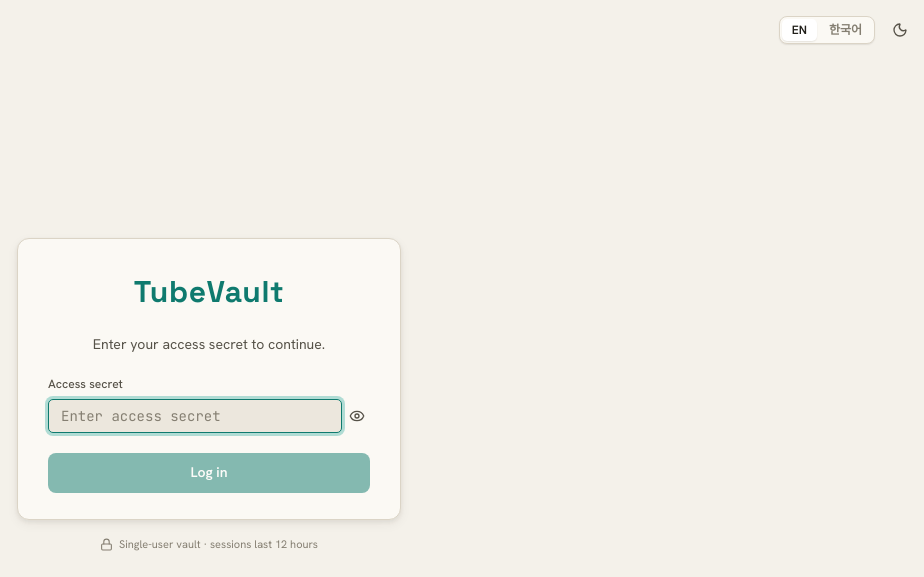
it: LoginPage › shows the generic invalid message on a 401 and does NOT redirect
Type "nope" into the password field labelled "Access secret" at (195, 416), box [48,399,342,433]
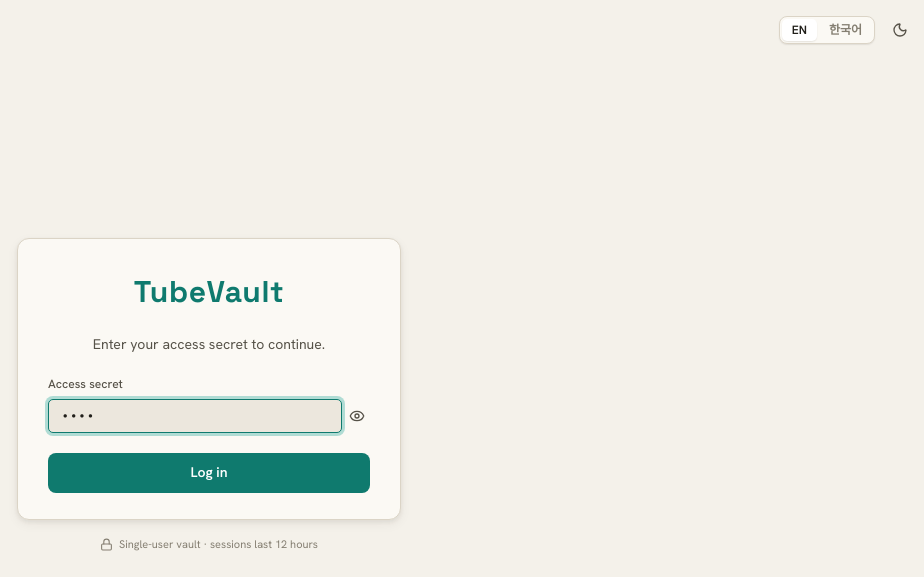
Click the button "Log in" at (209, 473), box [48,453,370,493]
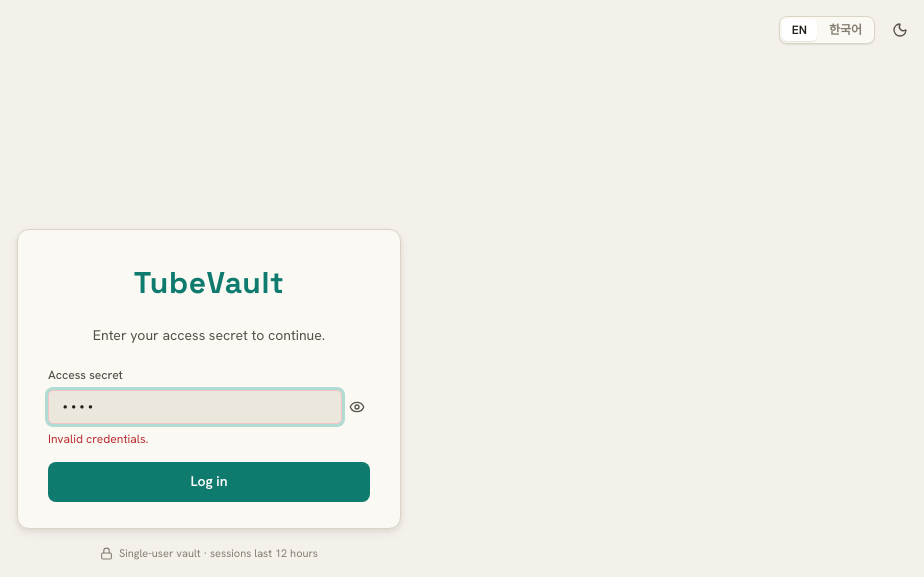
Expected: the text "Invalid credentials." is shown, [48,431,148,447]
